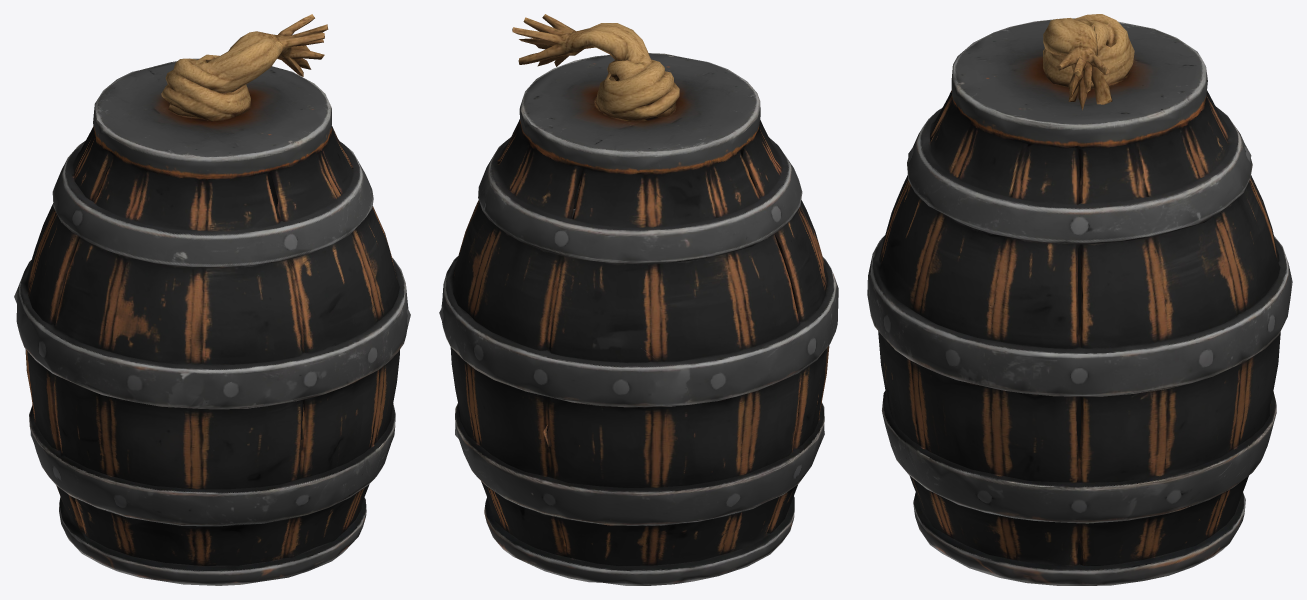
Rendered from powder_keg.glb.
3 views of the same model, side by side, from view 1: azimuth 30°, elevation 25°; view 2: azimuth 150°, elevation 25°; view 3: azimuth 270°, elevation 25° (orthographic). The views are drawn at different scales.
Visible parts, largest first — view 1: world; view 2: world; view 3: world.
Boxes of the visible parts, x1,y1,x2,y2 form: world: [14, 14, 410, 585]; world: [439, 14, 838, 585]; world: [867, 14, 1292, 585].
Size of the model in its own units: 0.749 by 0.9999 by 0.7481.
Materials: 1 (1 with a texture image).
